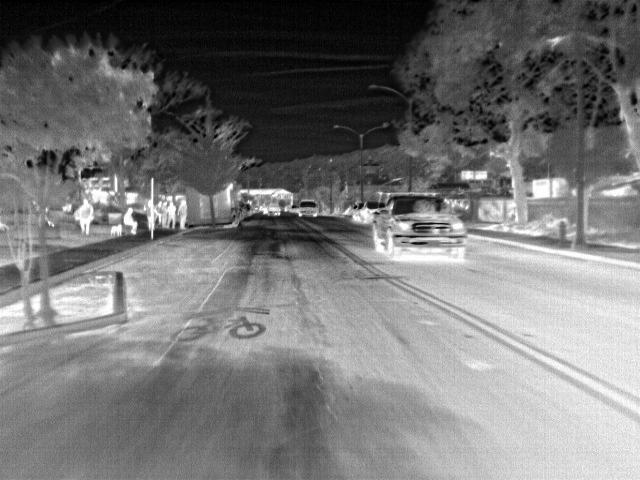car: (371, 193, 469, 264), (353, 203, 382, 223), (298, 199, 320, 218), (266, 204, 283, 216)
dog: (111, 224, 126, 236)
person: (79, 196, 94, 235), (145, 198, 158, 230), (165, 199, 179, 228), (176, 198, 190, 227), (125, 207, 140, 234), (159, 199, 171, 229)
